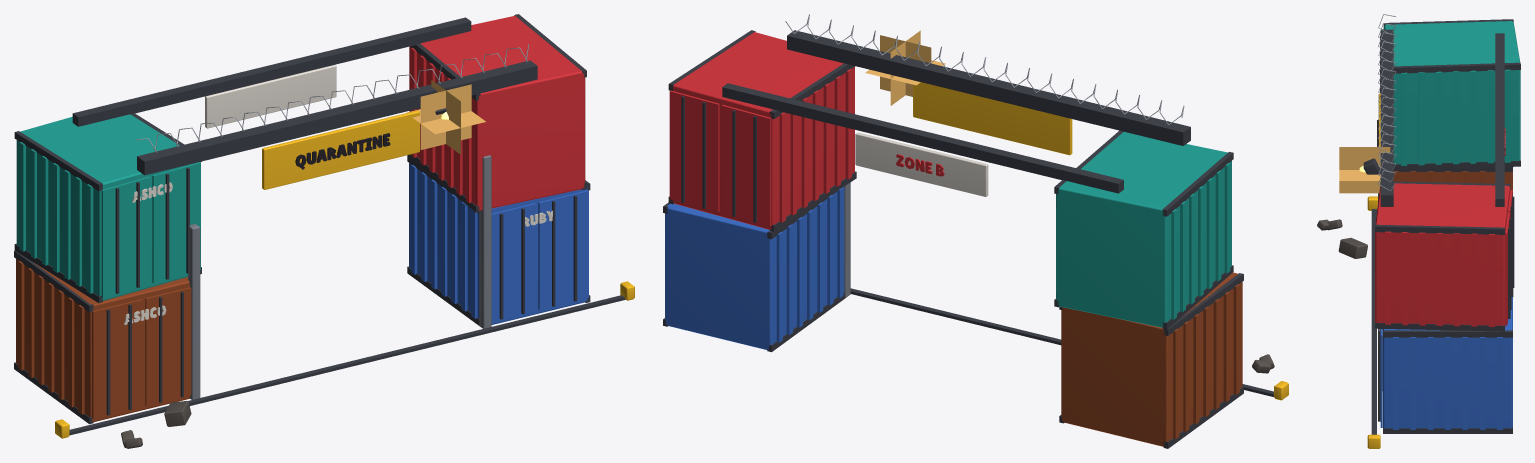
Rendered from city_gate_fence_frame.glb.
3 renders of one model, left to right at view 1: azimuth 30°, elevation 25°; view 2: azimuth 150°, elevation 25°; view 3: azimuth 270°, elevation 25°, orthographic. The views are drawn at different scales.
Parts seen in each view (by area): view 1: Frame; view 2: Frame; view 3: Frame.
Part boxes in pixels (x1,y1,x2,y2): Frame: (14,14,634,448); Frame: (663,14,1288,448); Frame: (1317,14,1520,448).
Bounding box in the file's own units: 13.2 × 6.05 × 4.7.
